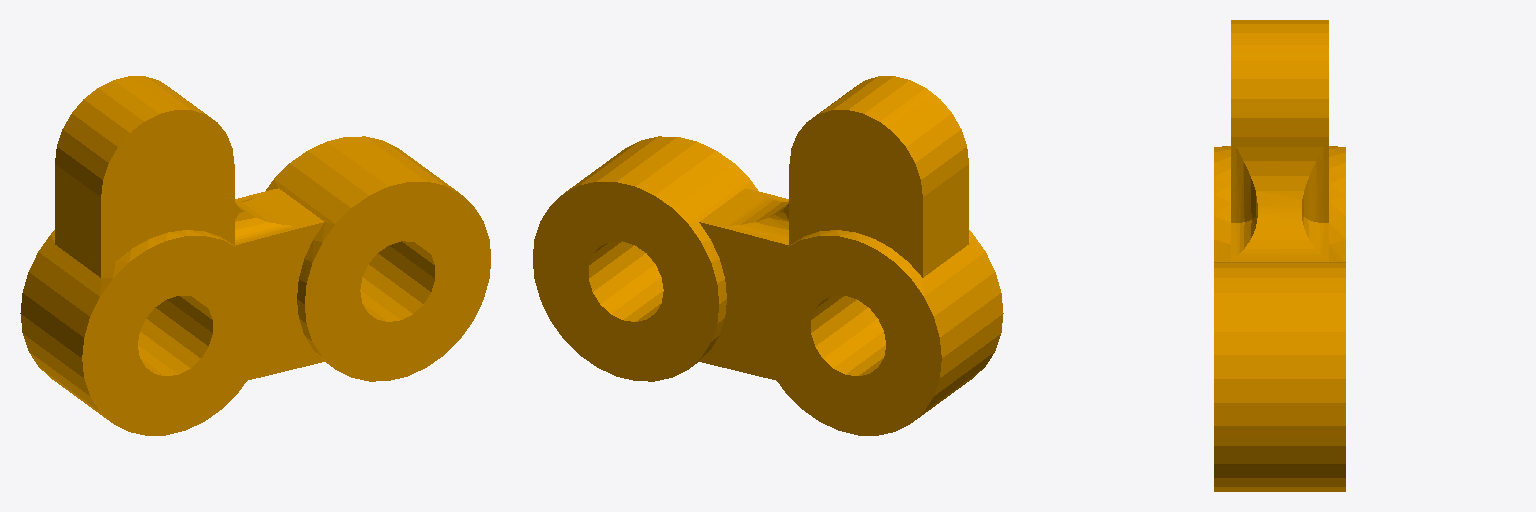
URDF robot description (00703_socket):
<?xml version="1.0"?>
<robot name="00703_socket">
	<link name="00703_socket">
		<visual>
			<geometry>
				<mesh filename="../mesh/00703/asset_socket.obj"/>
			</geometry>
		</visual>
		<collision>
			<geometry>
				<mesh filename="../mesh/00703/asset_socket.obj"/>
			</geometry>
			<sdf resolution="256"/>
		</collision>
	</link>
</robot>

--- What the picture shows (computed from the rendered views, not written in the file) ---
The picture shows the robot from 3 angles, left to right: view 1: azimuth 30°, elevation 25°; view 2: azimuth 150°, elevation 25°; view 3: azimuth 270°, elevation 25°; orthographic projection.
Robot: 00703_socket — 1 links, 0 joints (none); root link 00703_socket; default pose: every joint at zero.
Visible links, largest first — view 1: 00703_socket; view 2: 00703_socket; view 3: 00703_socket.
Boxes of the visible links, x1,y1,x2,y2 form: 00703_socket: [20, 76, 490, 435]; 00703_socket: [533, 76, 1003, 435]; 00703_socket: [1214, 20, 1345, 491].
Size in the robot's own frame: 0.0374 by 0.0098 by 0.0276 metres.
1 mesh visuals loaded from 1 distinct referenced files (1 OBJ).